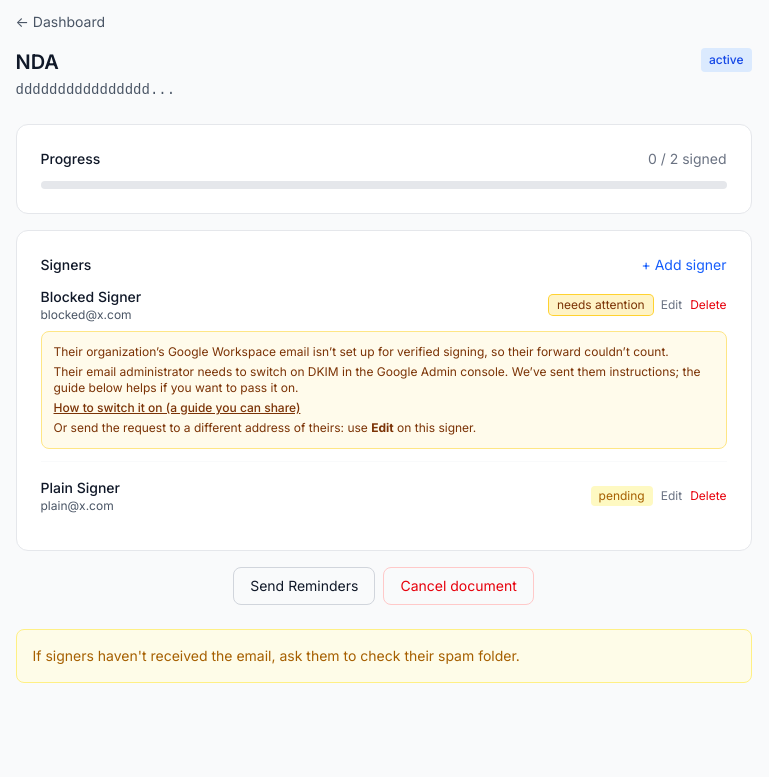
Test case: EnvelopeDetailPage — every control reaches 44x44 on a phone, in every state (UX-039..041, FC32.1) › BT-32.1: the edit form names its two text inputs through their labels, with ids unique per signer row
Expected: the text "needs attention" is shown, x1=549 y1=295 x2=653 y2=315
Click the button "Edit" next to "needs attention": (671, 305) x1=661 y1=297 x2=682 y2=313
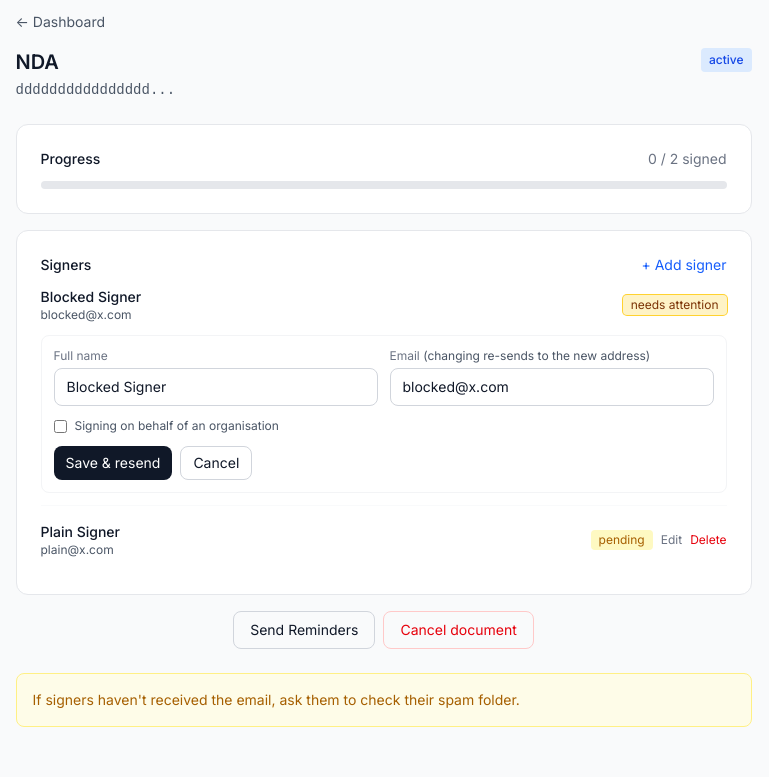
Expected: the field labelled "Full name" holds "Blocked Signer", x1=54 y1=368 x2=378 y2=406
Expected: the field labelled "Email (changing re-sends to the new address)" holds "blocked@x.com", x1=390 y1=368 x2=714 y2=406
Click the button "Cancel": (216, 463) x1=180 y1=446 x2=252 y2=480
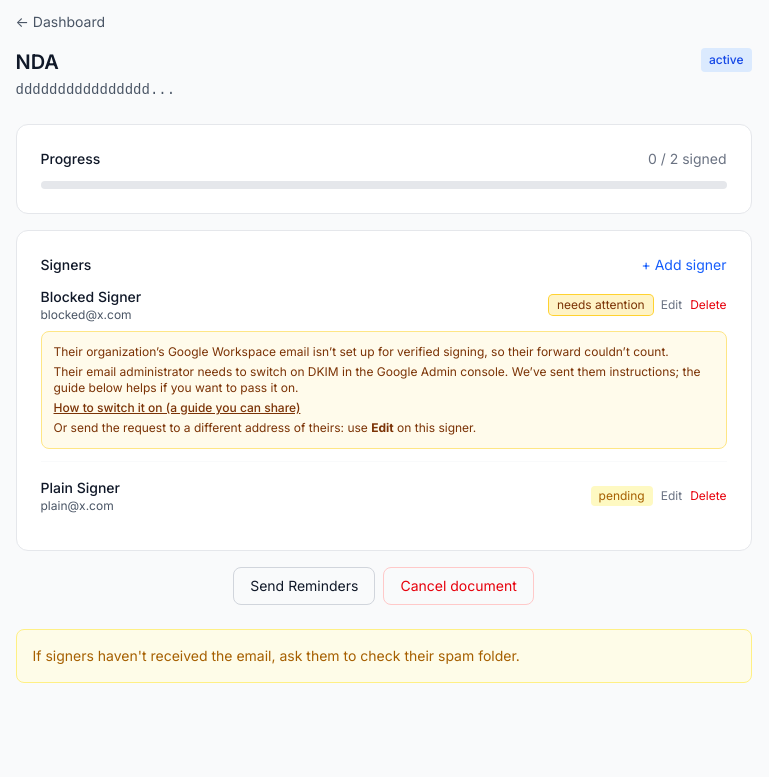
Click the button "Edit" next to "pending": (671, 496) x1=661 y1=488 x2=682 y2=504
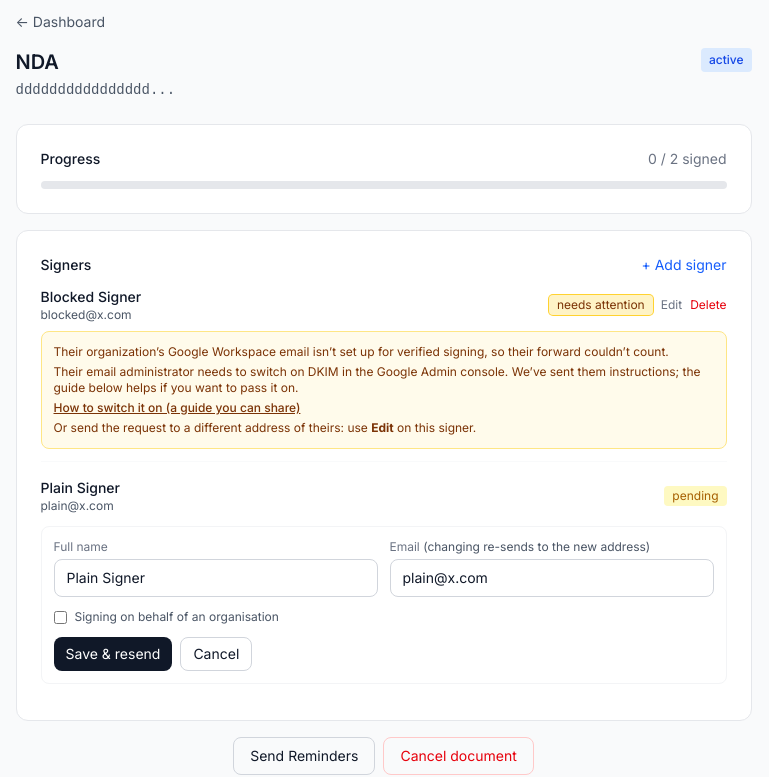
Expected: the field labelled "Full name" holds "Plain Signer", x1=54 y1=559 x2=378 y2=597
Expected: the field labelled "Email (changing re-sends to the new address)" holds "plain@x.com", x1=390 y1=559 x2=714 y2=597
